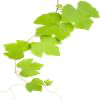grape leaf: (32, 12, 76, 40), (61, 0, 99, 31), (30, 34, 63, 59), (11, 58, 45, 78), (0, 40, 31, 61), (26, 77, 45, 93), (43, 77, 57, 86)
